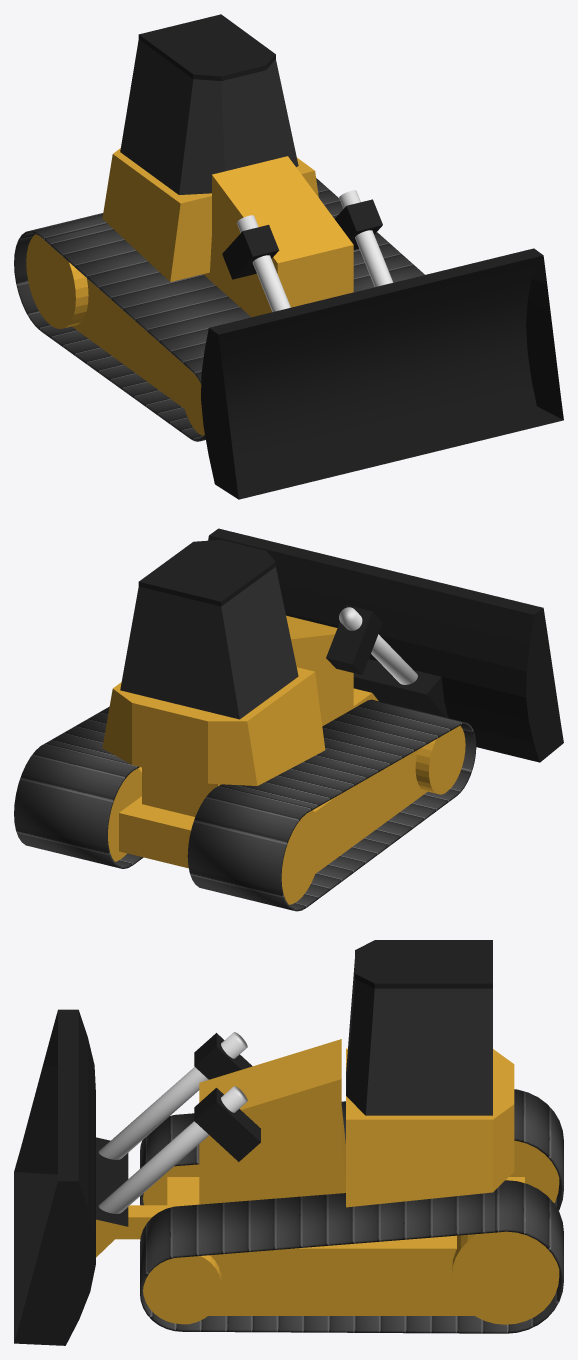
File: Caterpillar.fbx
The picture shows the model from 3 angles, top to bottom: view 1: azimuth 30°, elevation 25°; view 2: azimuth 150°, elevation 25°; view 3: azimuth 270°, elevation 25°; orthographic projection. The views are drawn at different scales.
Parts seen in each view (by area): view 1: Caterpillar; view 2: Caterpillar; view 3: Caterpillar.
Boxes of the visible parts, box(x1,y1,x2,y2) form: Caterpillar: box(14, 14, 563, 499); Caterpillar: box(14, 528, 563, 911); Caterpillar: box(14, 940, 563, 1345).
Size of the model in its own units: 141 by 115 by 190.
